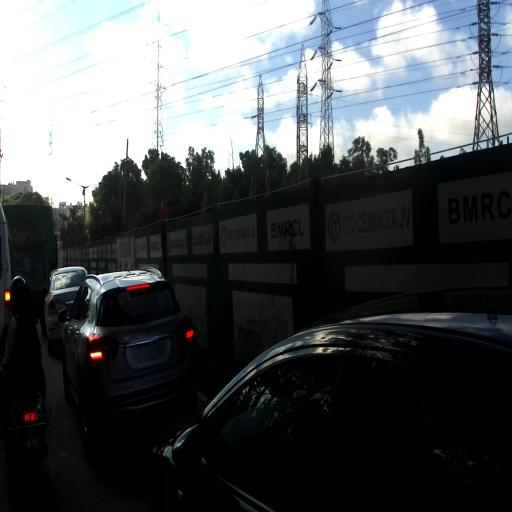street_light_0: (66, 178, 85, 196), (82, 182, 104, 195)
